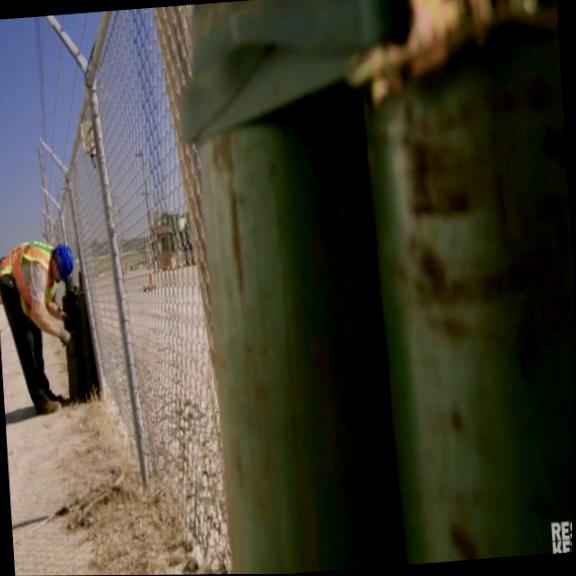safety_vest: (0, 238, 57, 320)
